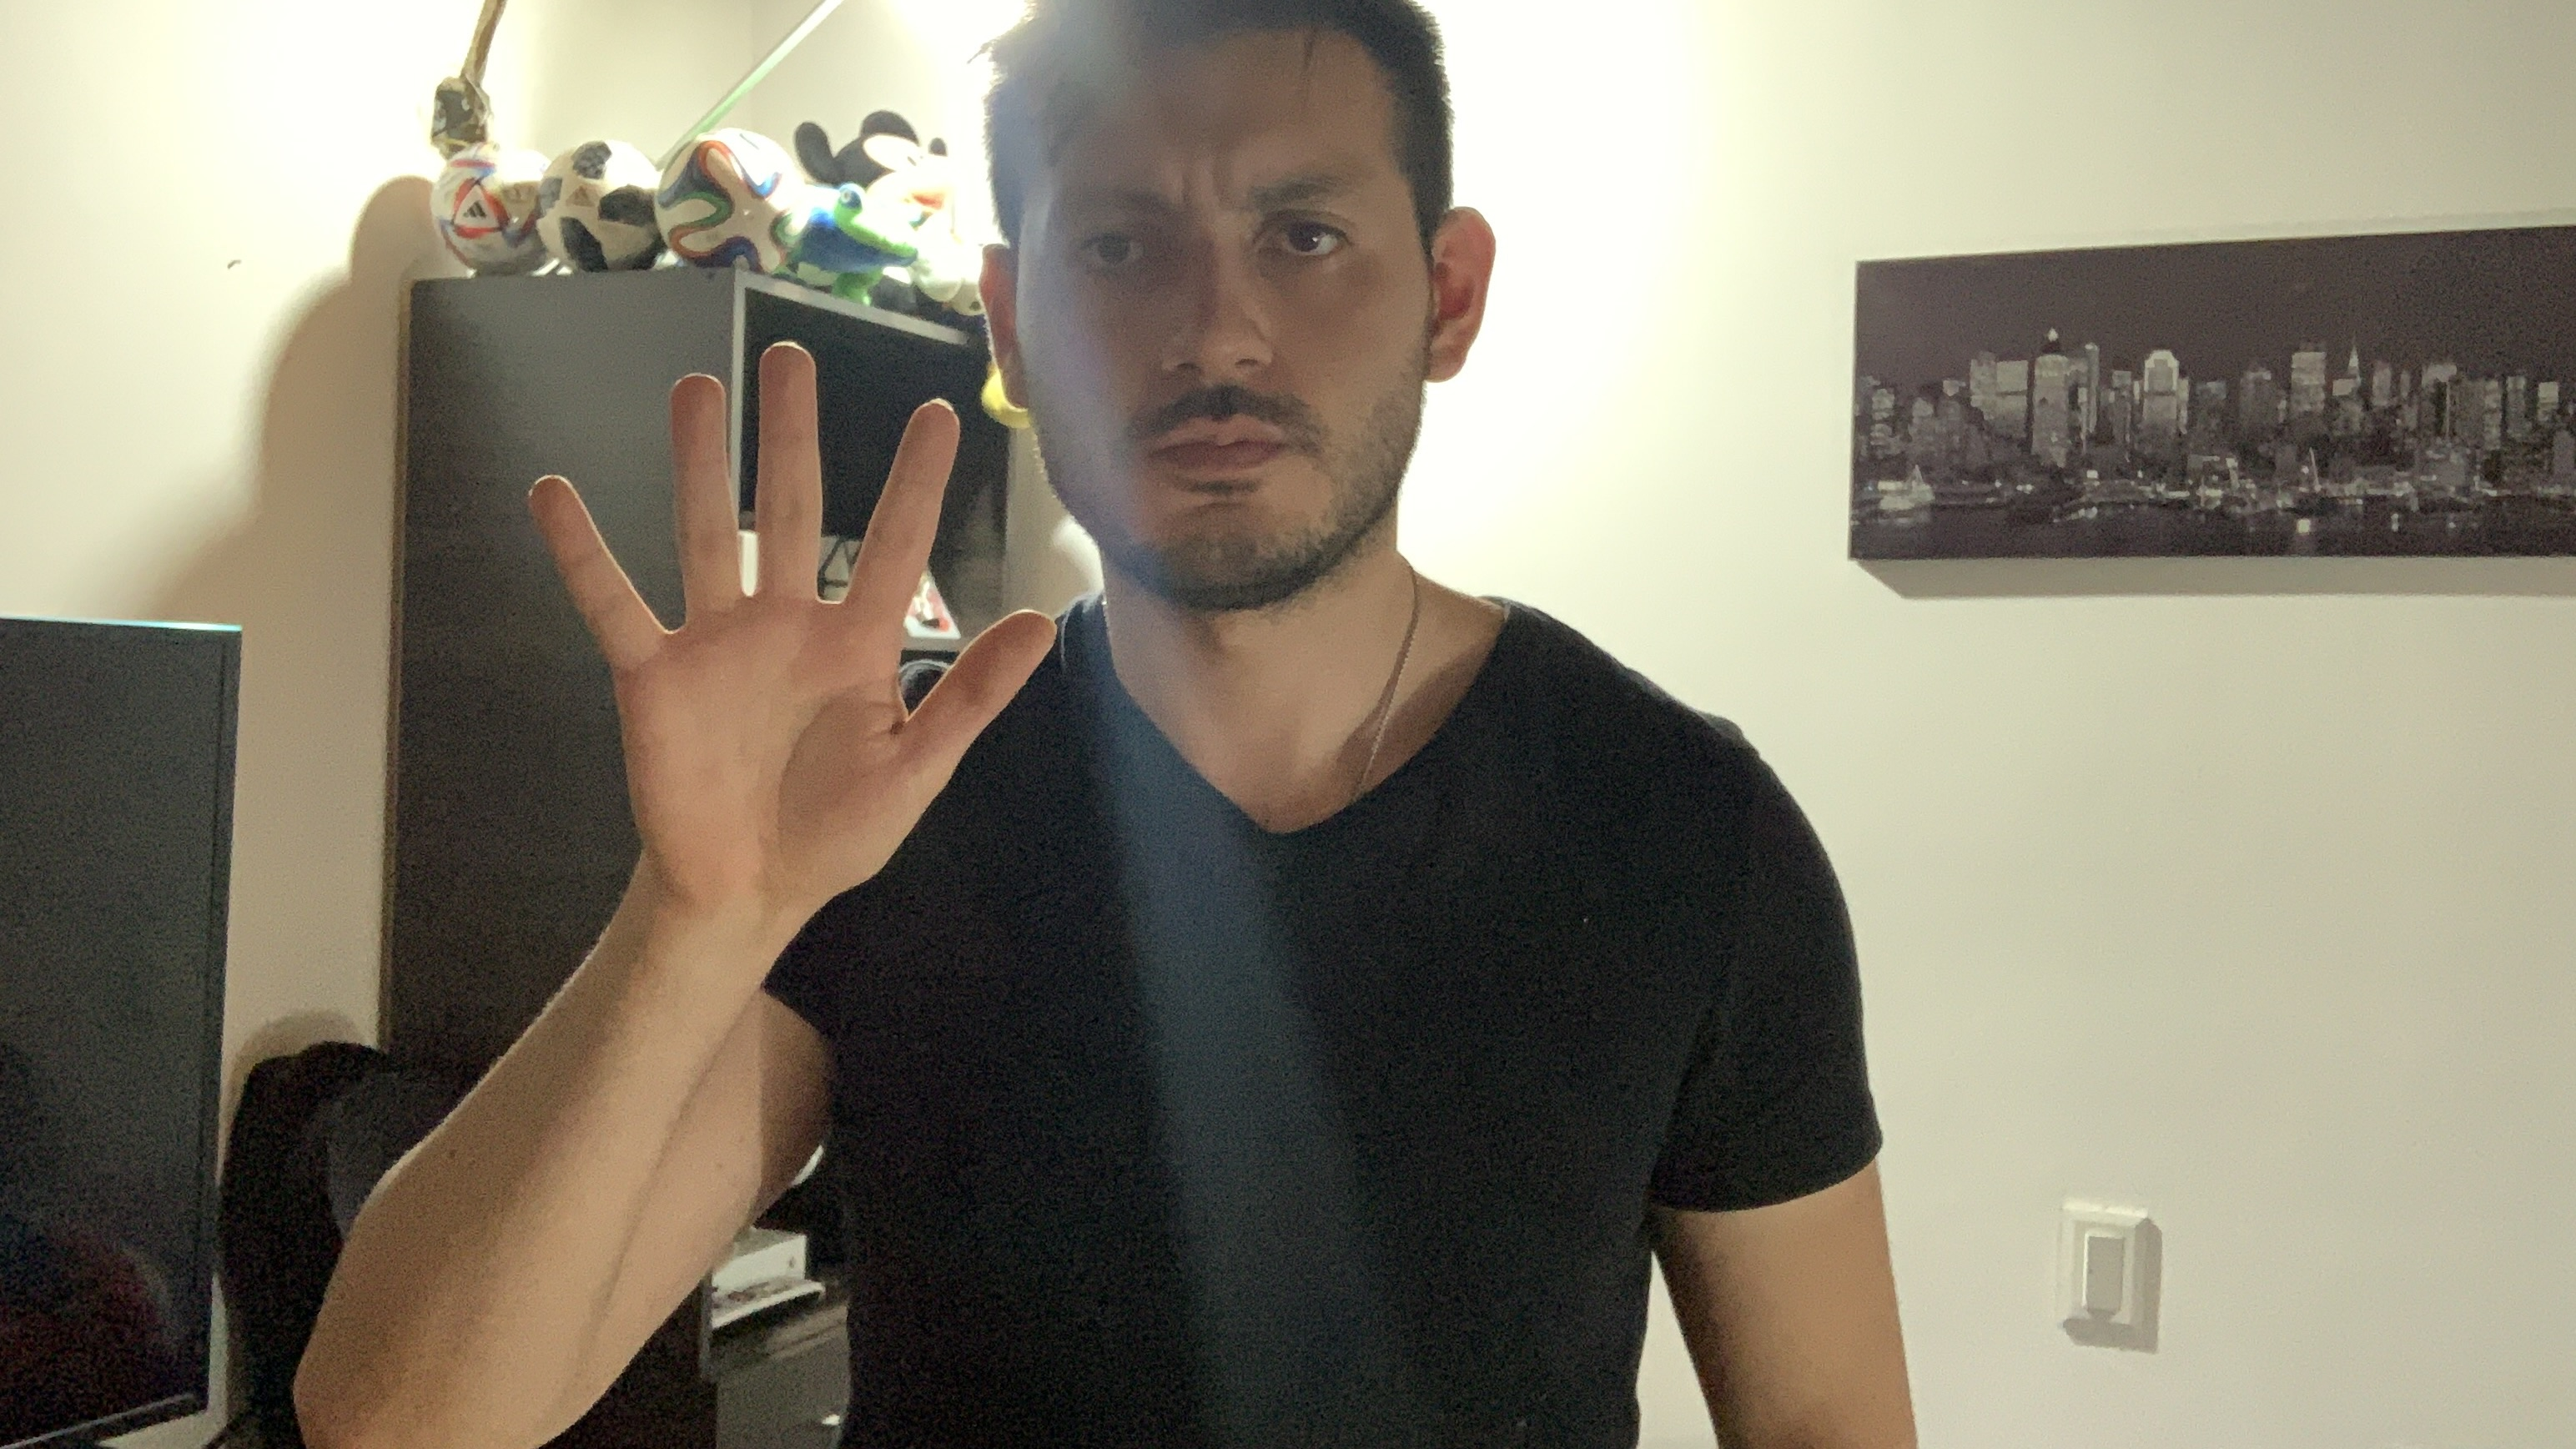Hello: (517, 334, 1079, 947)
